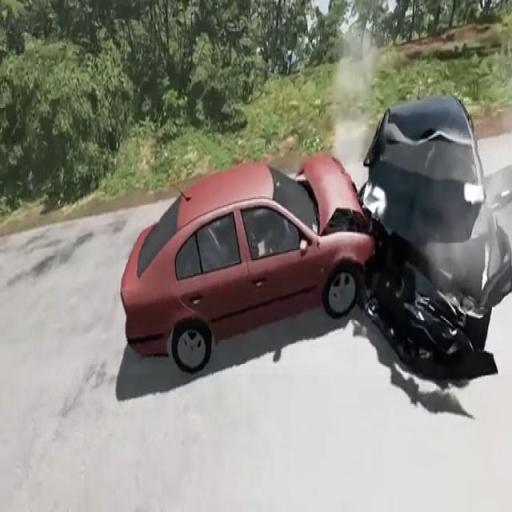小汽车撞小汽车: (119, 101, 512, 374)
